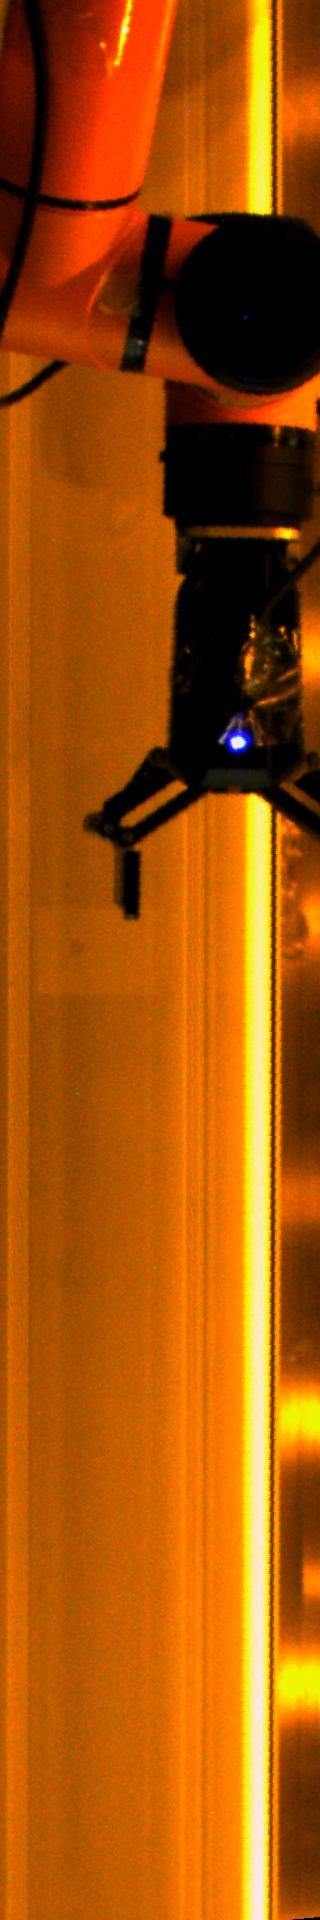keyPoint_1: (223, 727, 253, 757)
